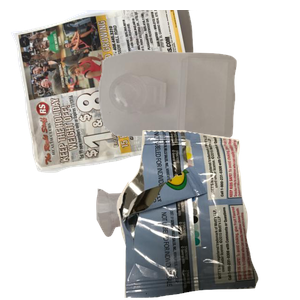glass: (94, 184, 253, 300)
paper: (10, 10, 210, 175)
plastic: (96, 48, 300, 179)
trash: (114, 130, 300, 300)
